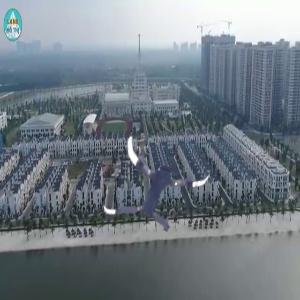drone: (108, 131, 212, 235)
